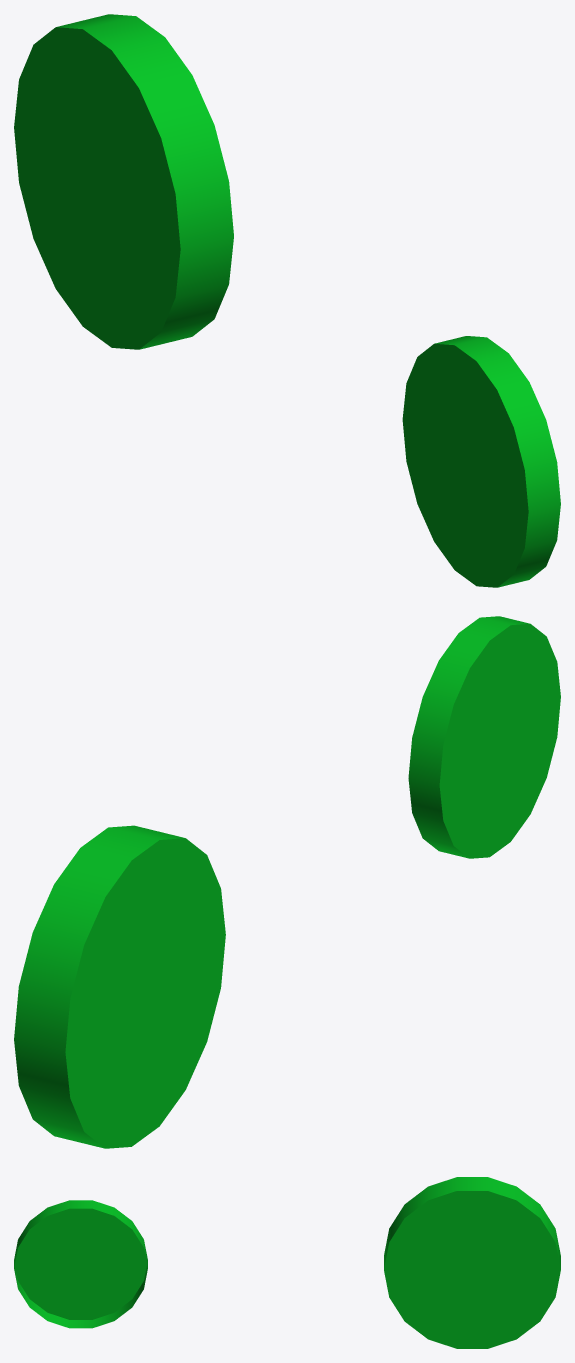
The model's file is On_OffButton.FBX.
The picture shows the model from 3 angles, top to bottom: view 1: azimuth 30°, elevation 25°; view 2: azimuth 150°, elevation 25°; view 3: azimuth 270°, elevation 25°; orthographic projection. The views are drawn at different scales.
Visible parts, largest first — view 1: ON_Button, OFF_Button; view 2: ON_Button, OFF_Button; view 3: ON_Button, OFF_Button.
Boxes of the visible parts, x1,y1,x2,y2 form: ON_Button: (14, 14, 233, 349); OFF_Button: (402, 336, 560, 587); ON_Button: (14, 825, 225, 1148); OFF_Button: (408, 616, 560, 858); ON_Button: (384, 1177, 560, 1348); OFF_Button: (14, 1200, 147, 1328).
Bounding box in the file's own units: 1.27 × 6.73 × 21.11.
